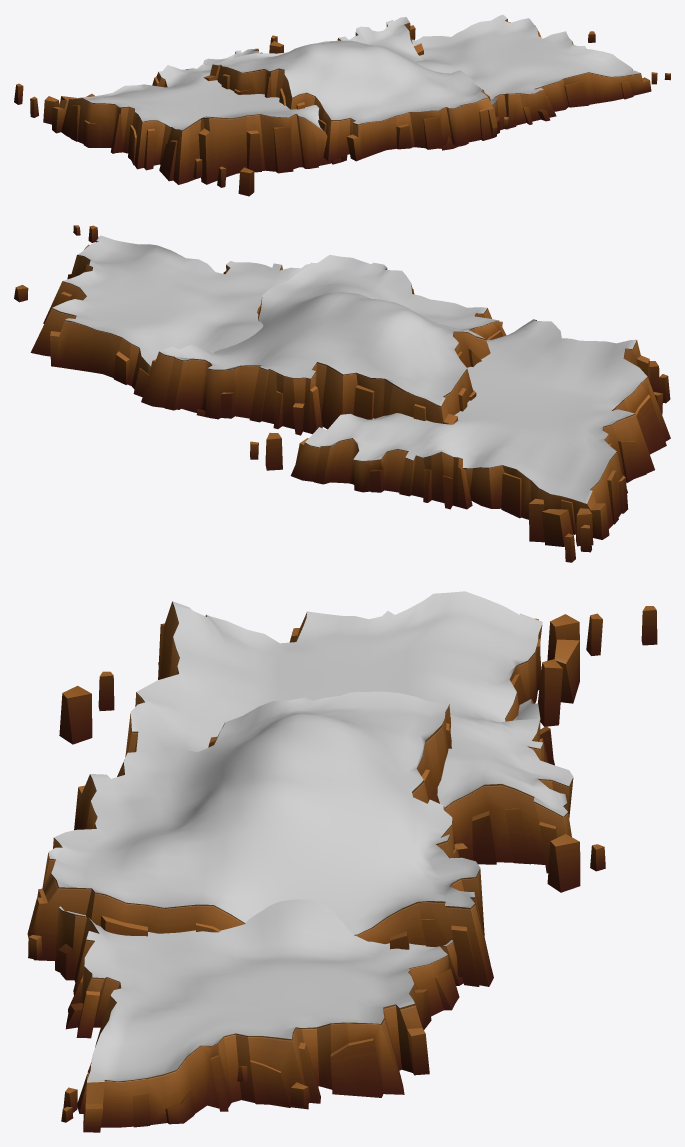
The model's file is level_Level02.fbx.
3 views of the same model, one above another, from view 1: azimuth 30°, elevation 25°; view 2: azimuth 150°, elevation 25°; view 3: azimuth 270°, elevation 25° (orthographic). The views are drawn at different scales.
Parts seen in each view (by area): view 1: Surface (×3), Cliff (×3), Rock013; view 2: Surface (×3), Cliff (×3), Rock09, Rock010, Rock06; view 3: Surface (×3), Cliff (×3), Rock06, Rock013, Rock010, Rock09, Rock08.
Boxes of the visible parts, bbox=[...] form: Surface (×3): bbox=[62, 14, 640, 130]; Cliff (×3): bbox=[52, 19, 651, 184]; Rock013: bbox=[238, 167, 254, 196]; Surface (×3): bbox=[52, 235, 647, 503]; Cliff (×3): bbox=[30, 241, 670, 539]; Rock09: bbox=[542, 509, 574, 546]; Rock010: bbox=[528, 498, 544, 542]; Rock06: bbox=[265, 432, 282, 470]; Surface (×3): bbox=[48, 591, 573, 1082]; Cliff (×3): bbox=[27, 601, 573, 1132]; Rock06: bbox=[547, 834, 580, 892]; Rock013: bbox=[59, 685, 92, 744]; Rock010: bbox=[537, 659, 562, 726]; Rock09: bbox=[554, 639, 579, 703]; Rock08: bbox=[547, 614, 579, 660].
Size of the model in its own units: 32170 by 4884 by 17227.
